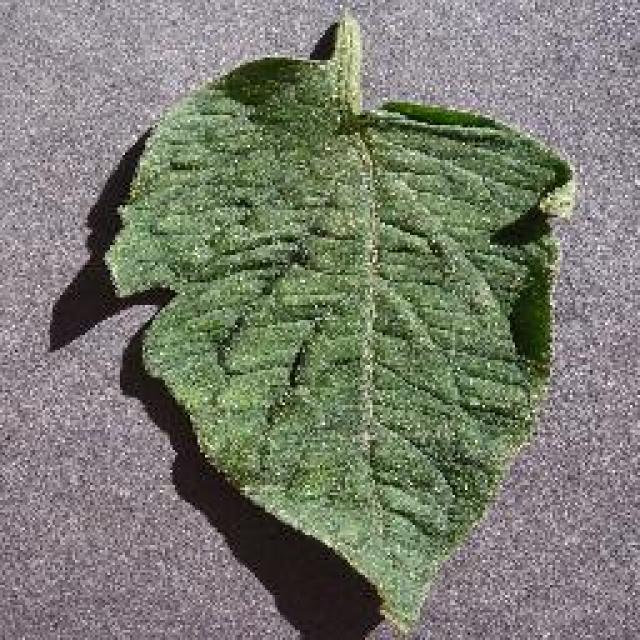Tomato___healthy: (102, 23, 574, 628)
